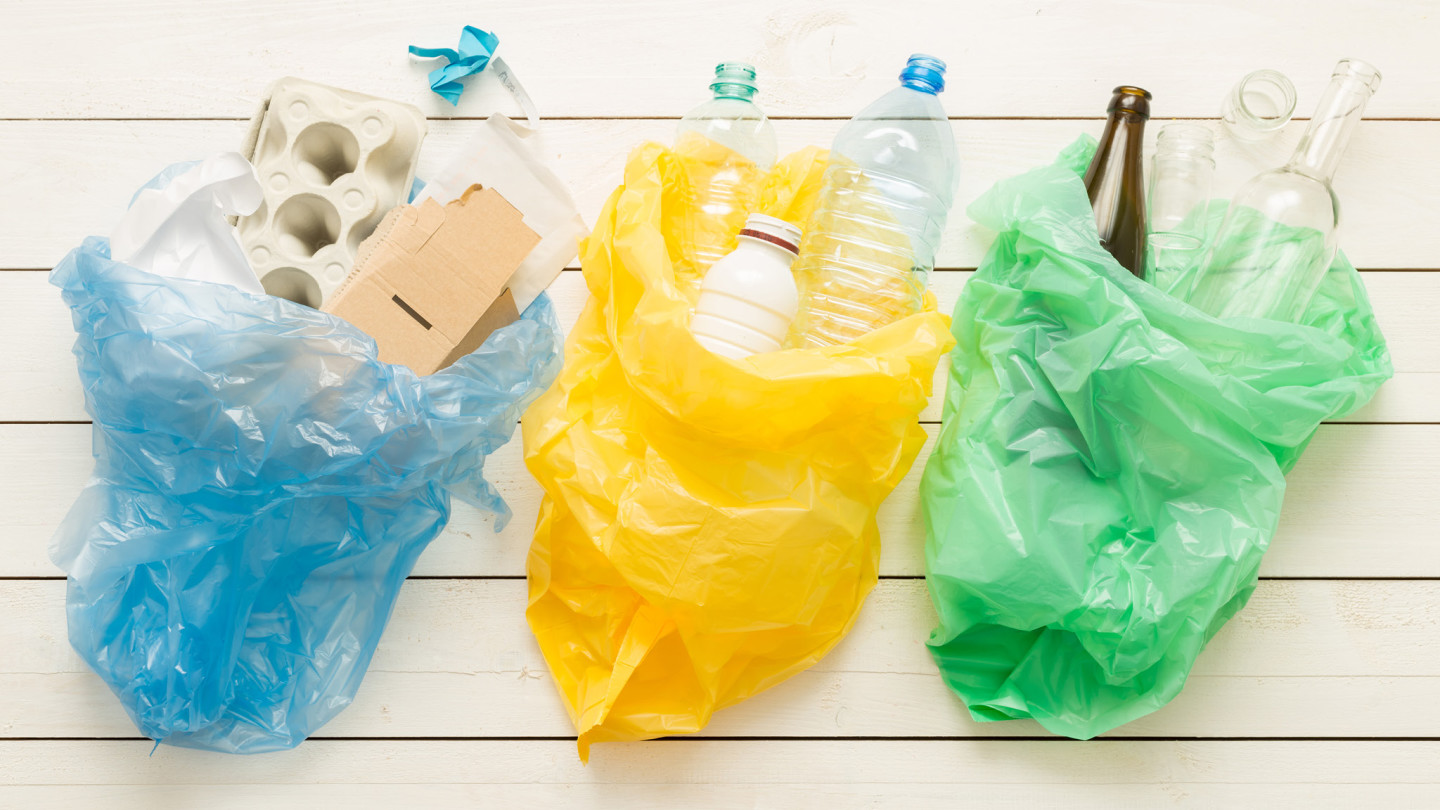plastic_bagwdw: (24, 8, 596, 810), (882, 9, 1405, 810), (491, 10, 1011, 810)
